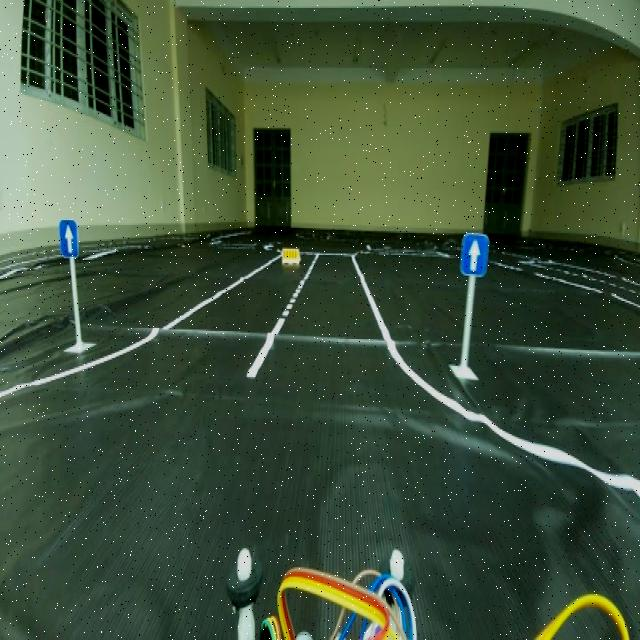onewayroad: (457, 224, 491, 284), (54, 215, 83, 258)
roadblock: (280, 246, 302, 268)
